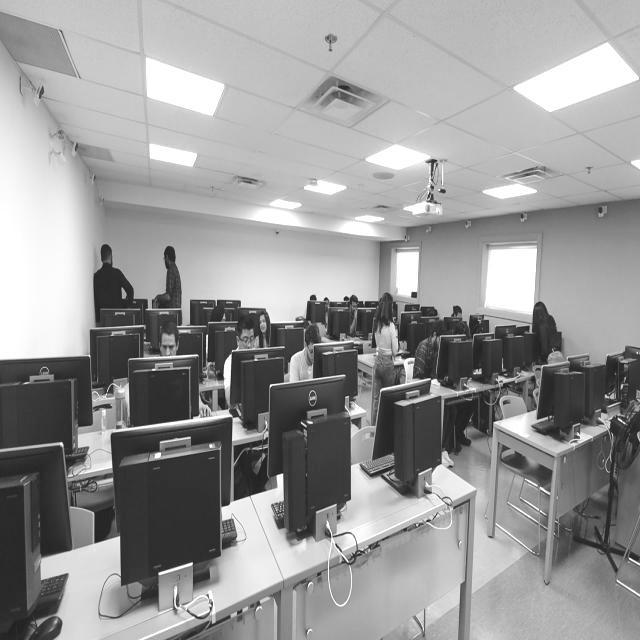Looking away: (160, 332, 177, 357), (240, 328, 254, 350), (259, 314, 267, 334)
